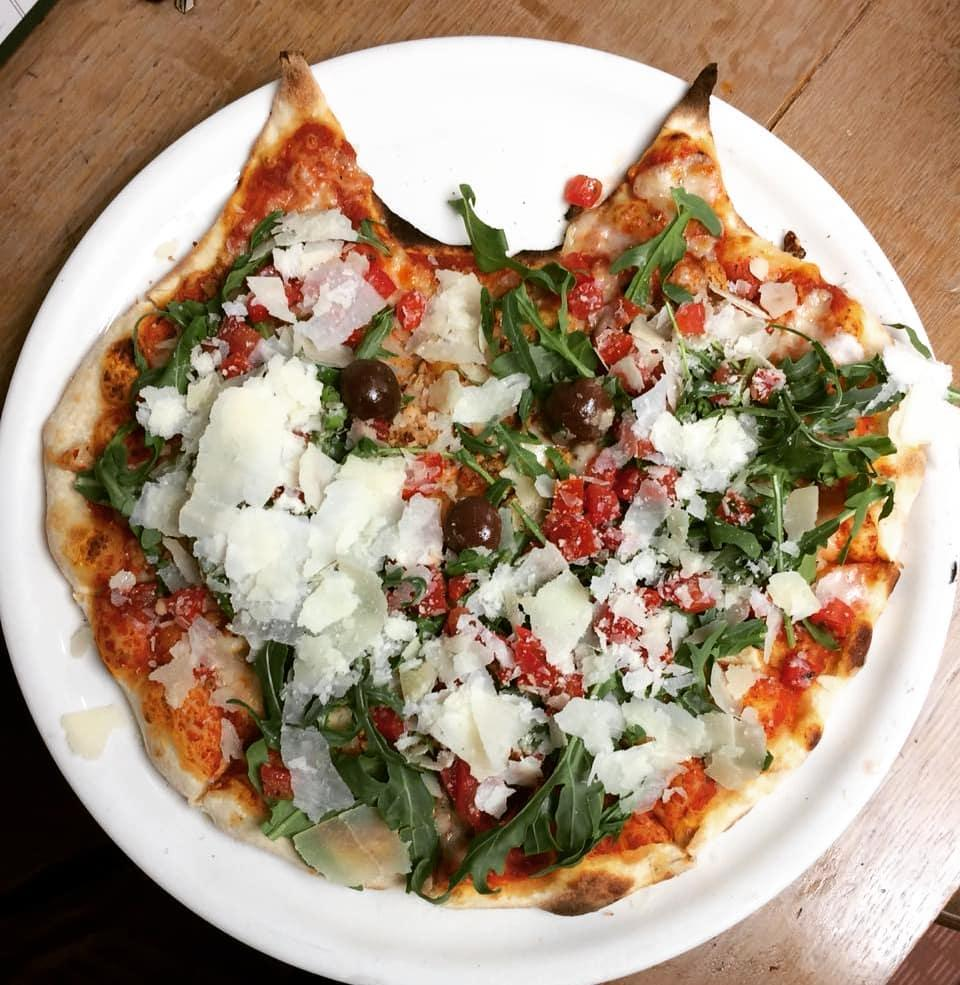Arugula: (455, 758, 621, 872), (461, 231, 584, 375), (756, 361, 881, 502), (324, 707, 426, 874), (74, 414, 181, 558), (692, 493, 814, 592), (454, 407, 561, 493), (137, 297, 231, 383), (670, 601, 777, 667), (216, 214, 282, 302)
Cheese: (217, 386, 380, 625), (571, 679, 752, 789), (407, 641, 526, 799), (281, 212, 386, 334), (499, 547, 591, 660), (604, 491, 687, 614), (649, 397, 748, 486)
Olives: (539, 379, 613, 446), (334, 349, 393, 415), (441, 501, 498, 549)
Pizza: (49, 47, 911, 900)
